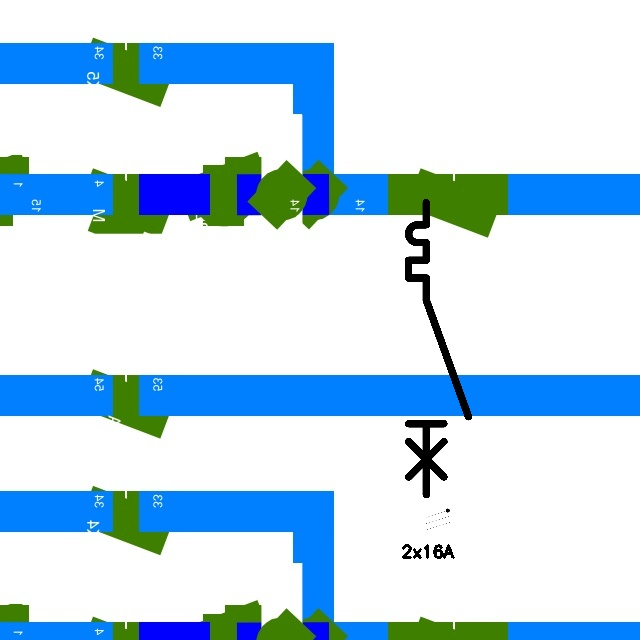interruptor_termomagnetico: (401, 195, 476, 502)
